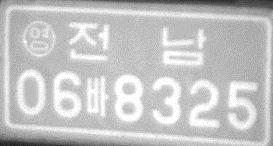0: (14, 68, 46, 116)
2: (188, 76, 222, 129)
3: (150, 74, 182, 126)
5: (227, 78, 259, 131)
6: (50, 70, 82, 119)
8: (113, 73, 144, 123)
바: (84, 75, 109, 118)
영: (21, 18, 56, 58)
전남_D: (66, 21, 206, 66)
